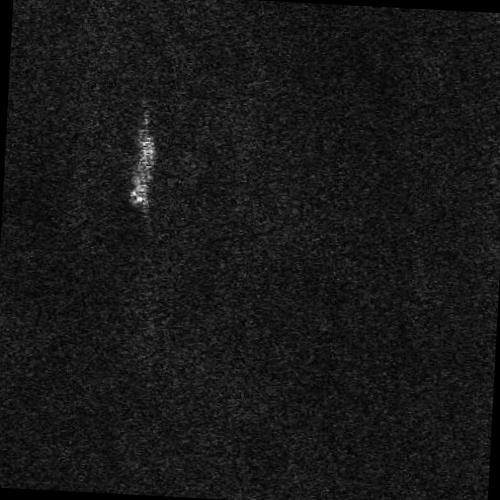ship: (130, 136, 156, 211)
